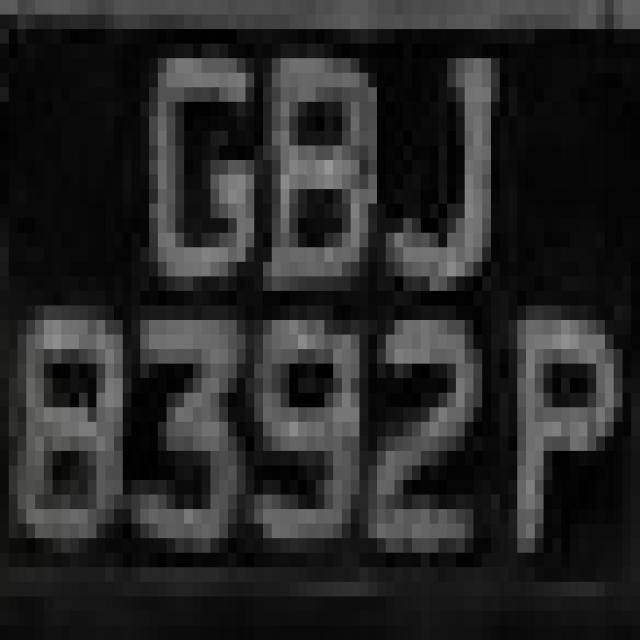2: (359, 276, 474, 596)
3: (132, 276, 263, 553)
8: (9, 291, 123, 596)
9: (246, 276, 360, 524)
B: (254, 14, 404, 291)
G: (132, 29, 280, 364)
J: (394, 14, 508, 334)
P: (508, 276, 614, 582)
